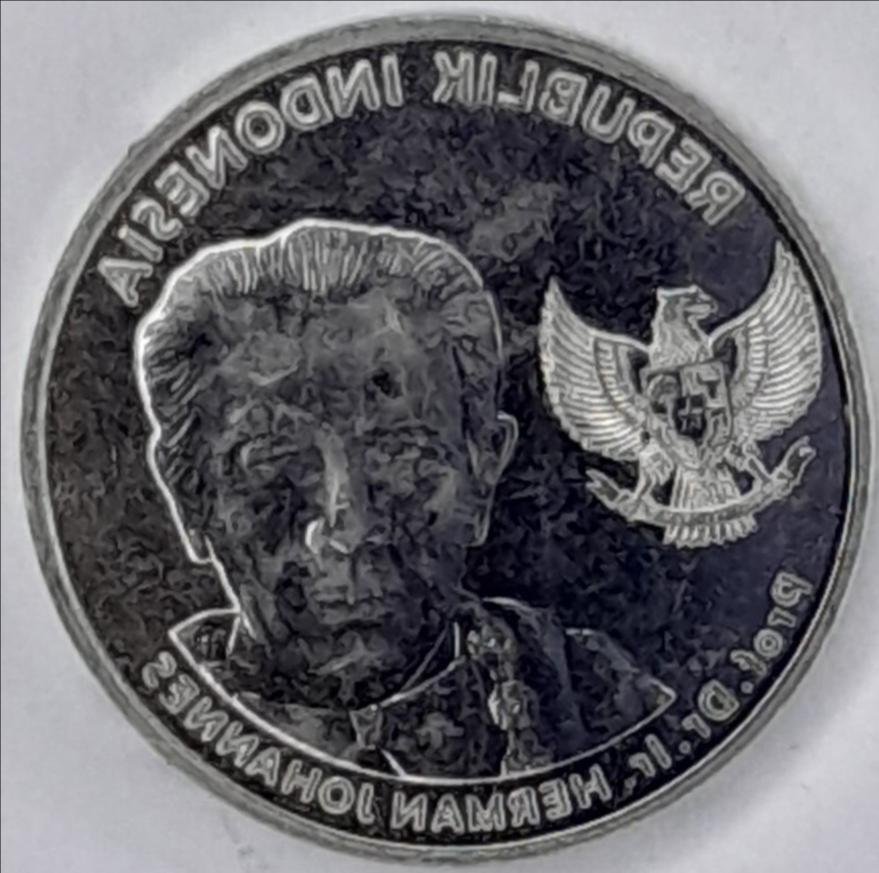coin_100_e2016: (15, 8, 875, 864)
